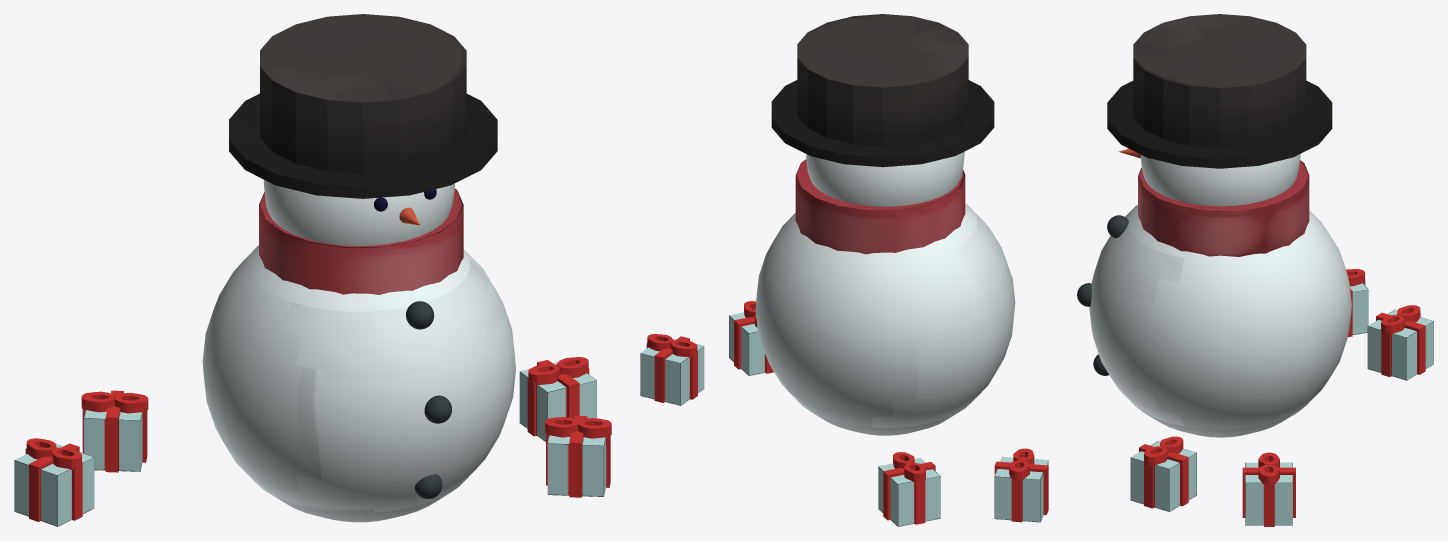
The model's file is 눈사람.FBX.
3 renders of one model, left to right at view 1: azimuth 30°, elevation 25°; view 2: azimuth 150°, elevation 25°; view 3: azimuth 270°, elevation 25°, orthographic. The views are drawn at different scales.
Visible parts, largest first — view 1: Sphere001, Cylinder002, Cylinder001, Sphere003, Box007, Box003, Box005, Box001, Box006, Box004, Box002, Box008; view 2: Sphere001, Cylinder002, Cylinder001, Sphere003, Box005, Box001, Box007, Box003, Box002, Box006, Box008; view 3: Sphere001, Cylinder002, Cylinder001, Sphere003, Box005, Box003, Box001, Box007, Box006, Box004, Box002.
Part boxes in pixels (x1,y1,x2,y2): Sphere001: [202, 245, 515, 522]; Cylinder002: [229, 14, 497, 198]; Cylinder001: [259, 188, 463, 294]; Sphere003: [263, 180, 454, 245]; Box007: [14, 443, 94, 526]; Box003: [546, 415, 610, 497]; Box005: [82, 390, 147, 472]; Box001: [519, 360, 596, 441]; Box006: [81, 391, 148, 413]; Box004: [545, 417, 611, 438]; Box002: [528, 357, 588, 385]; Box008: [26, 438, 81, 469]; Sphere001: [755, 203, 1015, 435]; Cylinder002: [771, 14, 994, 167]; Cylinder001: [795, 159, 965, 254]; Sphere003: [806, 151, 964, 206]; Box005: [878, 458, 940, 526]; Box001: [640, 336, 704, 405]; Box007: [994, 457, 1048, 522]; Box003: [729, 309, 773, 375]; Box002: [647, 334, 697, 357]; Box006: [893, 452, 925, 482]; Box008: [1009, 448, 1034, 480]; Sphere001: [1089, 205, 1351, 437]; Cylinder002: [1107, 14, 1332, 168]; Cylinder001: [1138, 160, 1309, 256]; Sphere003: [1141, 154, 1300, 206]; Box005: [1367, 309, 1433, 380]; Box003: [1130, 441, 1196, 511]; Box001: [1242, 461, 1295, 526]; Box007: [1348, 279, 1368, 336]; Box006: [1381, 305, 1420, 334]; Box004: [1144, 436, 1183, 465]; Box002: [1258, 452, 1279, 484].
Size of the model in its own units: 20.34 by 16.67 by 14.35.
1 material, 1 textured.
